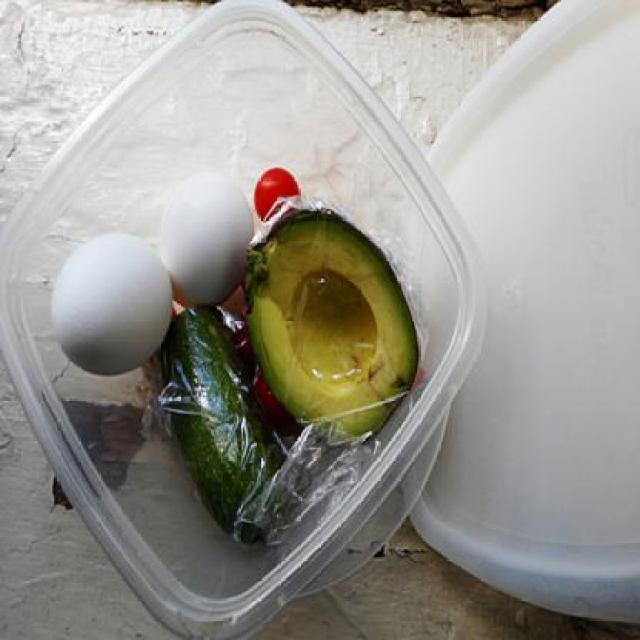Cucumber: (150, 305, 284, 544)
